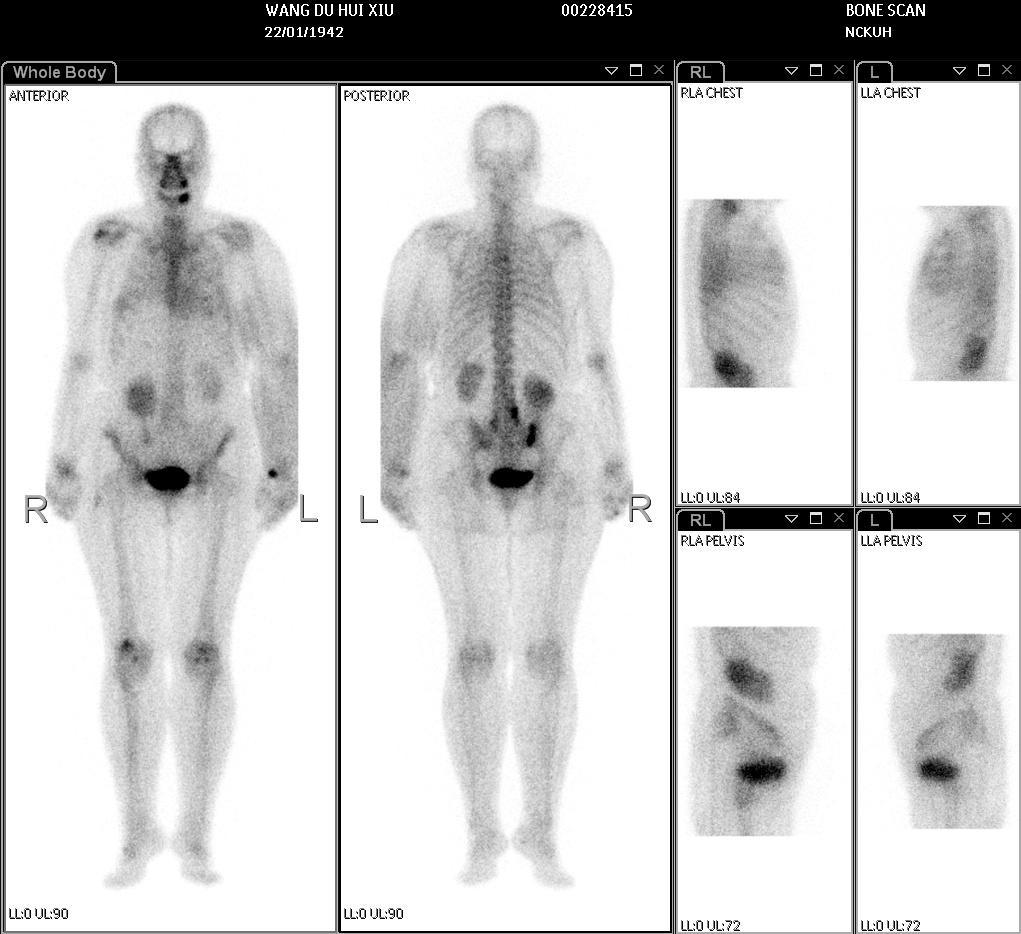person: (4, 82, 670, 930)
